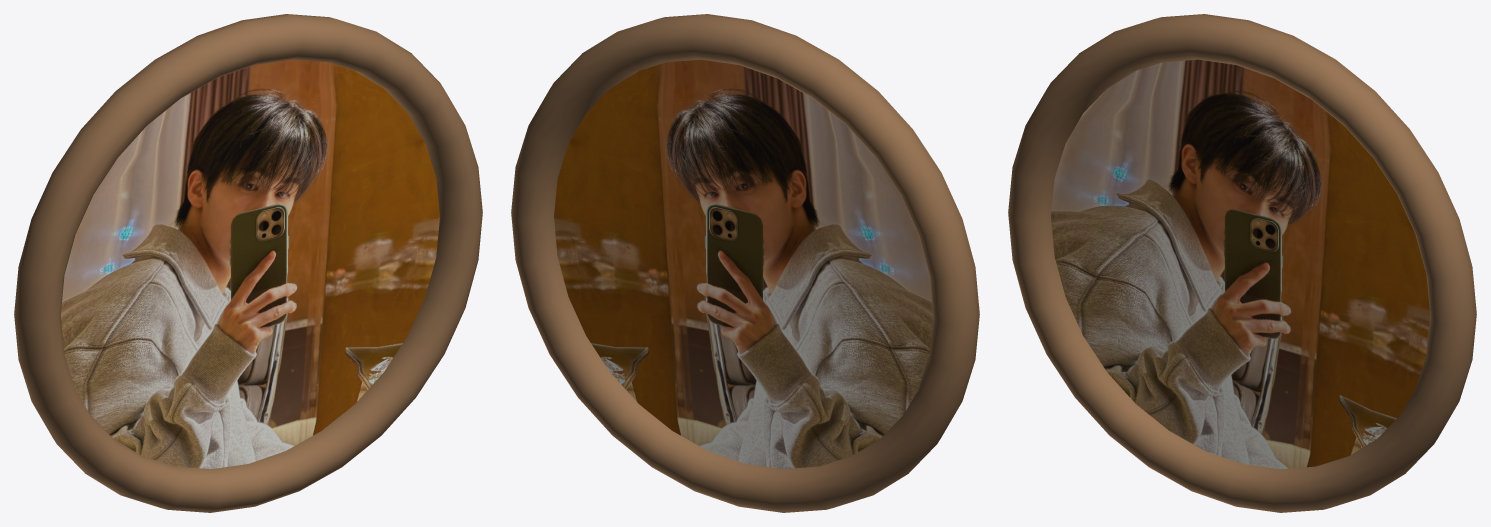
File: bronze-mirror.glb
3 renders of one model, left to right at view 1: azimuth 30°, elevation 25°; view 2: azimuth 150°, elevation 25°; view 3: azimuth 330°, elevation 25°, orthographic.
Visible parts, largest first — view 1: 마크, Torus; view 2: 마크, Torus; view 3: 마크, Torus.
Boxes of the visible parts, x1,y1,x2,y2 form: 마크: [60, 59, 439, 469]; Torus: [14, 14, 482, 512]; 마크: [554, 59, 933, 469]; Torus: [511, 14, 979, 512]; 마크: [1051, 59, 1430, 469]; Torus: [1008, 14, 1476, 512].
Size of the model in its own units: 3.67 by 3.67 by 0.3564.
2 materials, 1 textured.
